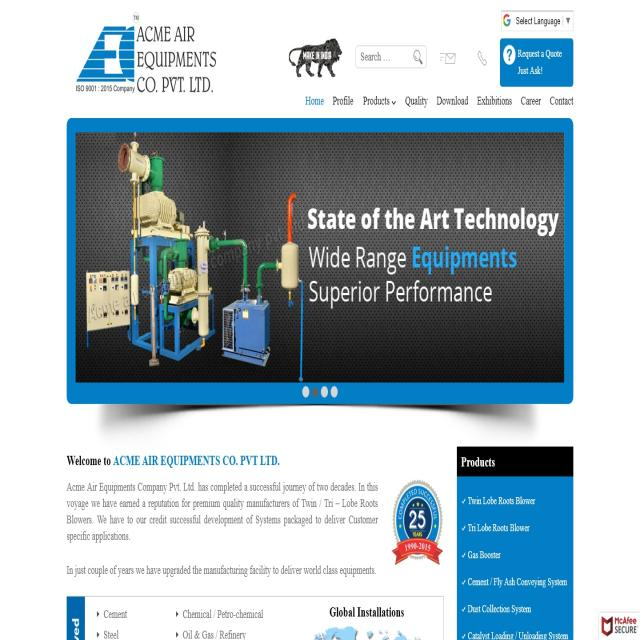button: (501, 37, 573, 86), (284, 33, 342, 80), (503, 10, 572, 33), (471, 88, 515, 116), (358, 89, 401, 116), (433, 88, 471, 115), (545, 90, 573, 116), (402, 90, 432, 114), (514, 90, 544, 114), (330, 88, 357, 114), (301, 90, 328, 115), (471, 47, 492, 71), (410, 44, 426, 72), (442, 48, 460, 72)
field: (356, 43, 427, 70)
heading: (66, 448, 279, 470), (328, 602, 406, 623), (459, 448, 499, 474)
image: (68, 121, 574, 404), (75, 9, 223, 100), (392, 478, 444, 568)
label: (358, 44, 383, 69)
text: (306, 200, 560, 312), (65, 482, 380, 546), (64, 558, 376, 582), (461, 574, 570, 594), (461, 624, 572, 640), (460, 599, 536, 618), (461, 519, 533, 539), (173, 624, 254, 640), (172, 609, 266, 622), (456, 494, 538, 506), (95, 604, 132, 620), (458, 549, 507, 561), (96, 627, 126, 640)
